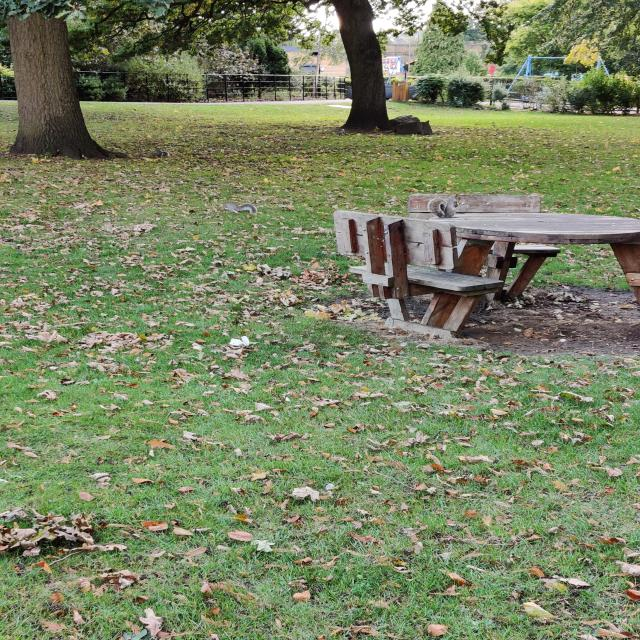litter: (229, 334, 249, 348)
